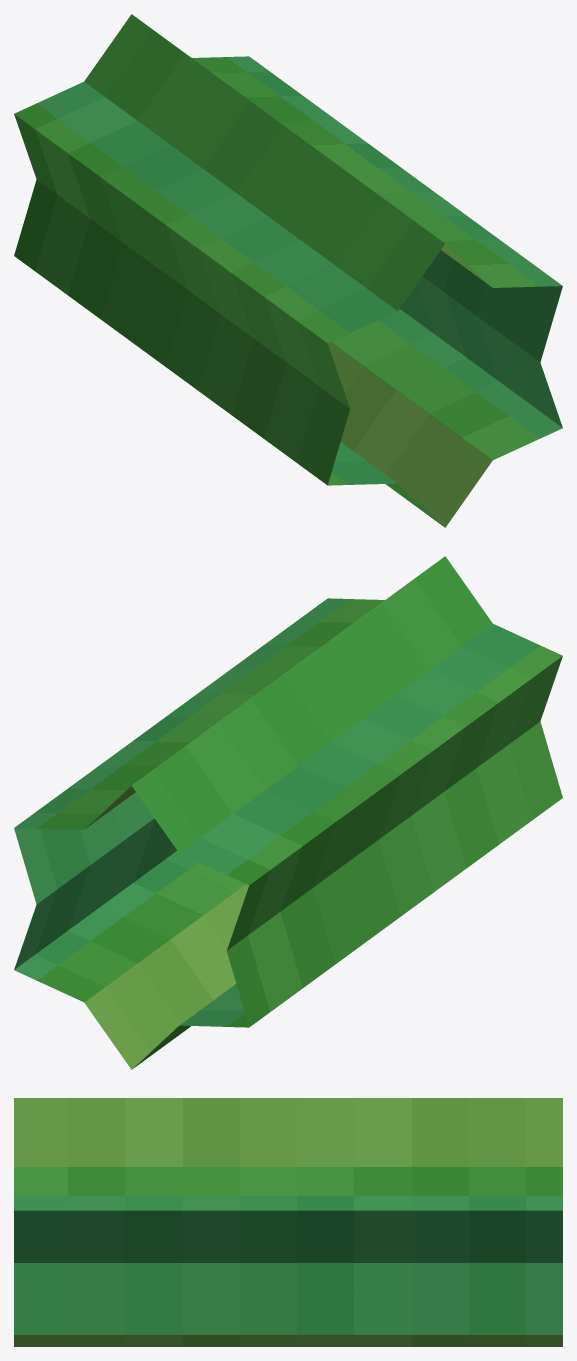
File: cactus-saguaro-bottom.glb
3 renders of one model, top to bottom at view 1: azimuth 30°, elevation 25°; view 2: azimuth 150°, elevation 25°; view 3: azimuth 270°, elevation 25°, orthographic. The views are drawn at different scales.
Parts seen in each view (by area): view 1: cactus-saguaro-bottom; view 2: cactus-saguaro-bottom; view 3: cactus-saguaro-bottom.
Boxes of the visible parts, x1,y1,x2,y2 form: cactus-saguaro-bottom: [14, 14, 562, 527]; cactus-saguaro-bottom: [14, 556, 562, 1069]; cactus-saguaro-bottom: [14, 1098, 562, 1346].
Bounding box in the file's own units: 0.433 × 0.5 × 1.
1 material, 1 textured.
